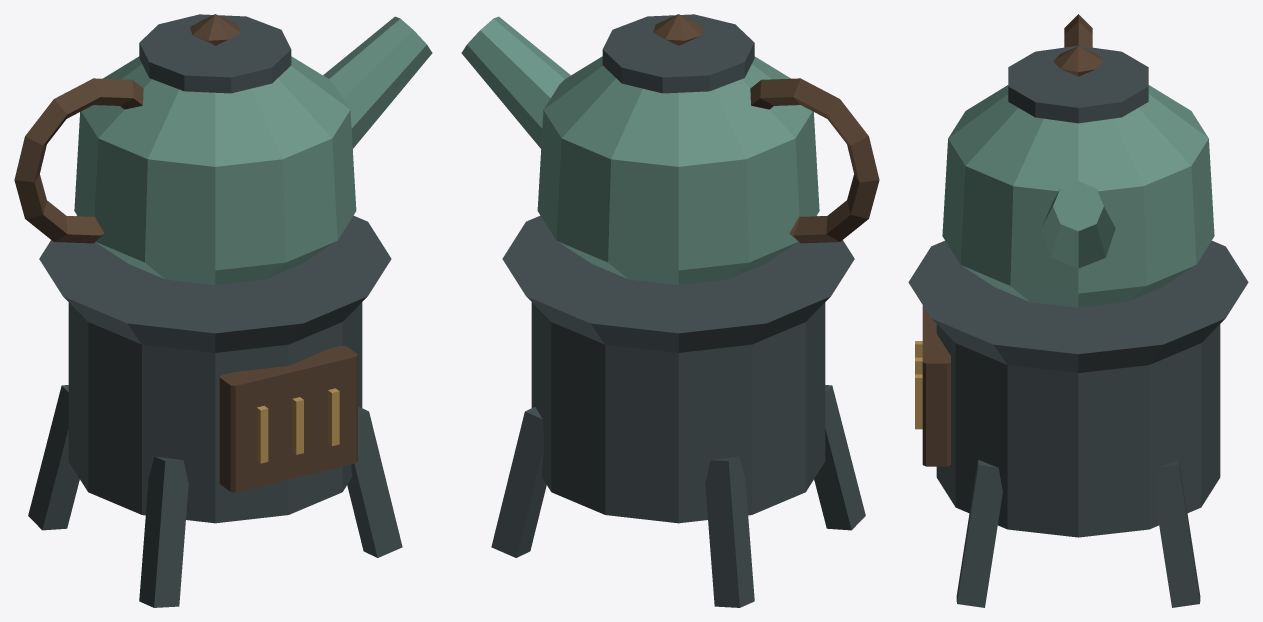
The model's file is stove_kettle.glb.
The picture shows the model from 3 angles, left to right: view 1: azimuth 30°, elevation 25°; view 2: azimuth 150°, elevation 25°; view 3: azimuth 270°, elevation 25°; orthographic projection. The views are drawn at different scales.
Parts seen in each view (by area): view 1: geometry; view 2: geometry; view 3: geometry.
Boxes of the visible parts, x1=… form: geometry: x1=14, y1=14, x2=432, y2=607; geometry: x1=461, y1=14, x2=879, y2=607; geometry: x1=908, y1=14, x2=1248, y2=607.
Bounding box in the file's own units: 0.8112 × 0.988 × 0.6.
